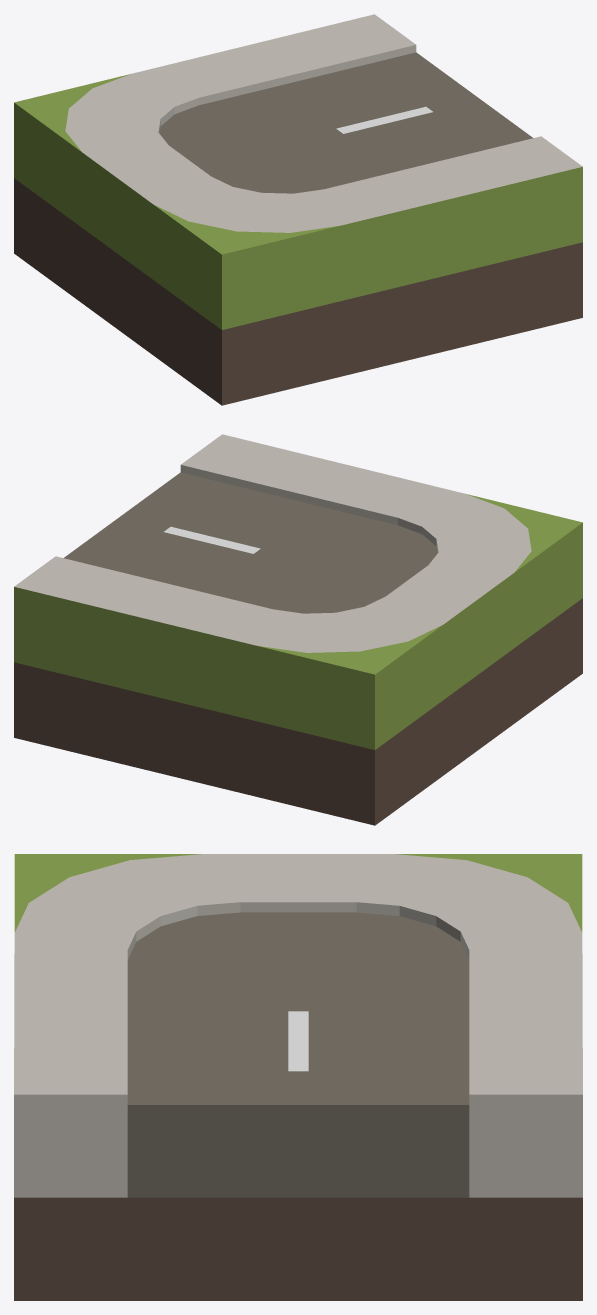
Rendered from road-tile-tail_small.fbx.
3 renders of one model, top to bottom at view 1: azimuth 30°, elevation 25°; view 2: azimuth 150°, elevation 25°; view 3: azimuth 270°, elevation 25°, orthographic. The views are drawn at different scales.
Parts seen in each view (by area): view 1: road-tile-tail_small; view 2: road-tile-tail_small; view 3: road-tile-tail_small.
Boxes of the visible parts, x1=… form: road-tile-tail_small: x1=14, y1=14, x2=582, y2=405; road-tile-tail_small: x1=14, y1=434, x2=582, y2=825; road-tile-tail_small: x1=14, y1=854, x2=582, y2=1300.
Size of the model in its own units: 1000 by 400 by 1000.
